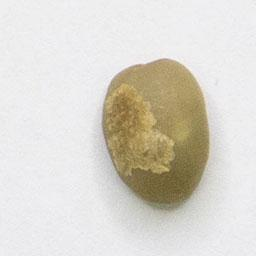premium: (99, 57, 213, 209)
